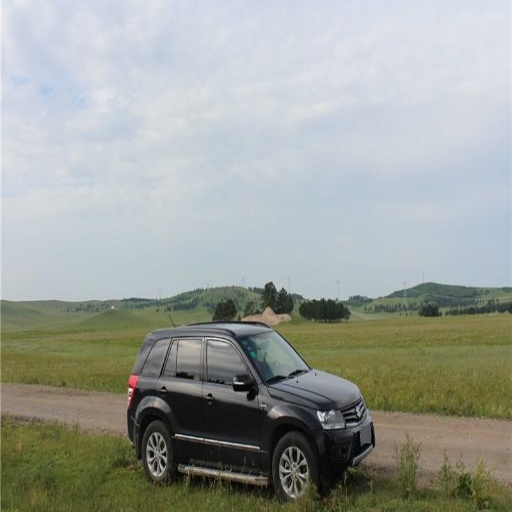back_right_door: (148, 335, 206, 459)
front_bumper: (321, 404, 372, 461)
front_right_door: (206, 335, 261, 466)
